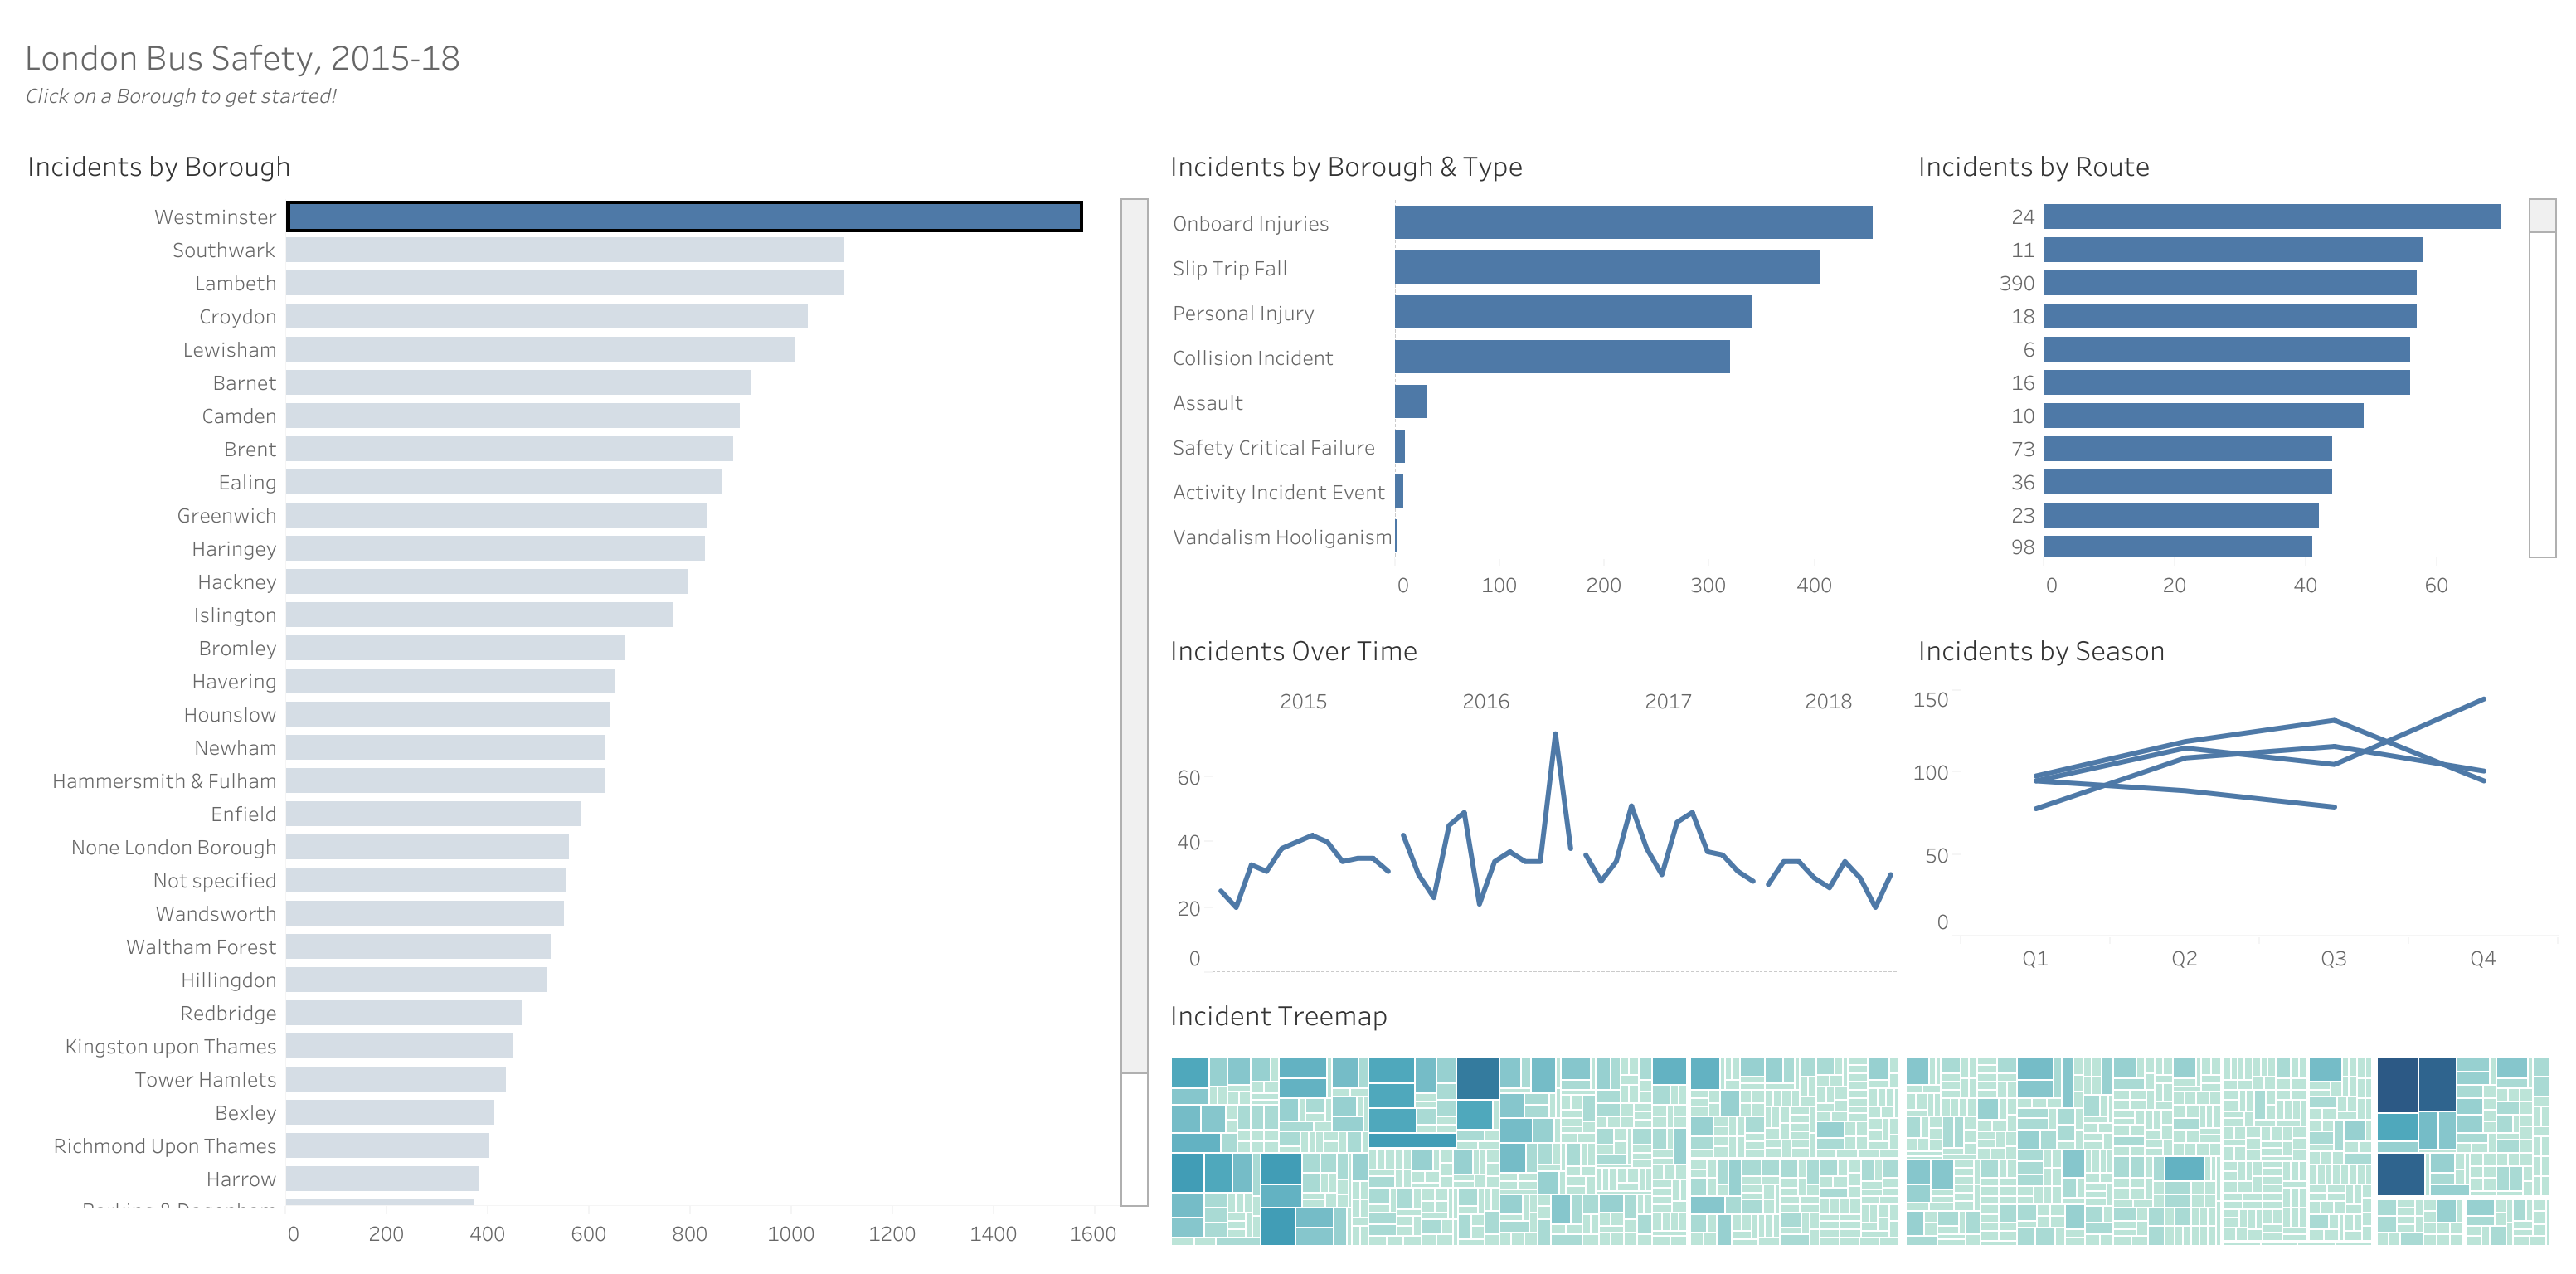

Layout of this report page (visuals, bound fields, positions):
{"tool":"tableau","page":{"name":"Dashboard 1","canvas":[1554,769],"ordinal":0},"visuals":[{"type":"text","box":[8,8,1538,70]},{"type":"worksheet","title":"Incidents by Borough","mark":"Bar","rows":["Borough"],"cols":["Sheet1_C1E5DEB443EC40C193AF05D7FF2E5A93"],"box":[8,78,689.2,683]},{"type":"worksheet","title":"Incidents by Borough & Type","mark":"Bar","rows":["Borough","Incident Event Type"],"cols":["Sheet1_C1E5DEB443EC40C193AF05D7FF2E5A93"],"box":[697.2,78,450.7,292]},{"type":"worksheet","title":"Incidents by Route","mark":"Bar","rows":["Route"],"cols":["Sheet1_C1E5DEB443EC40C193AF05D7FF2E5A93"],"box":[1147.9,78,398.1,292]},{"type":"worksheet","title":"Incidents Over Time","mark":"Automatic","rows":["Sheet1_C1E5DEB443EC40C193AF05D7FF2E5A93"],"cols":["Date Of Incident","Date Of Incident"],"box":[697.2,370,450.7,220.2]},{"type":"worksheet","title":"Incidents by Season","mark":"Automatic","rows":["Sheet1_C1E5DEB443EC40C193AF05D7FF2E5A93"],"cols":["Date Of Incident"],"box":[1147.9,370,398.1,220.2]},{"type":"worksheet","title":"Incident Treemap","mark":"Automatic","box":[697.2,590.2,848.8,170.8]}]}

Visuals, with their boxes in screenshot pixels (x1, y1, x2, y2), scaled from the page's 1554x769 canvas onto the 2576x1274 screenshot:
text: [13, 13, 2563, 129]
"Incidents by Borough" worksheet (Bar marks): [13, 129, 1156, 1261]
"Incidents by Borough & Type" worksheet (Bar marks): [1156, 129, 1903, 613]
"Incidents by Route" worksheet (Bar marks): [1903, 129, 2563, 613]
"Incidents Over Time" worksheet: [1156, 613, 1903, 978]
"Incidents by Season" worksheet: [1903, 613, 2563, 978]
"Incident Treemap" worksheet: [1156, 978, 2563, 1261]
